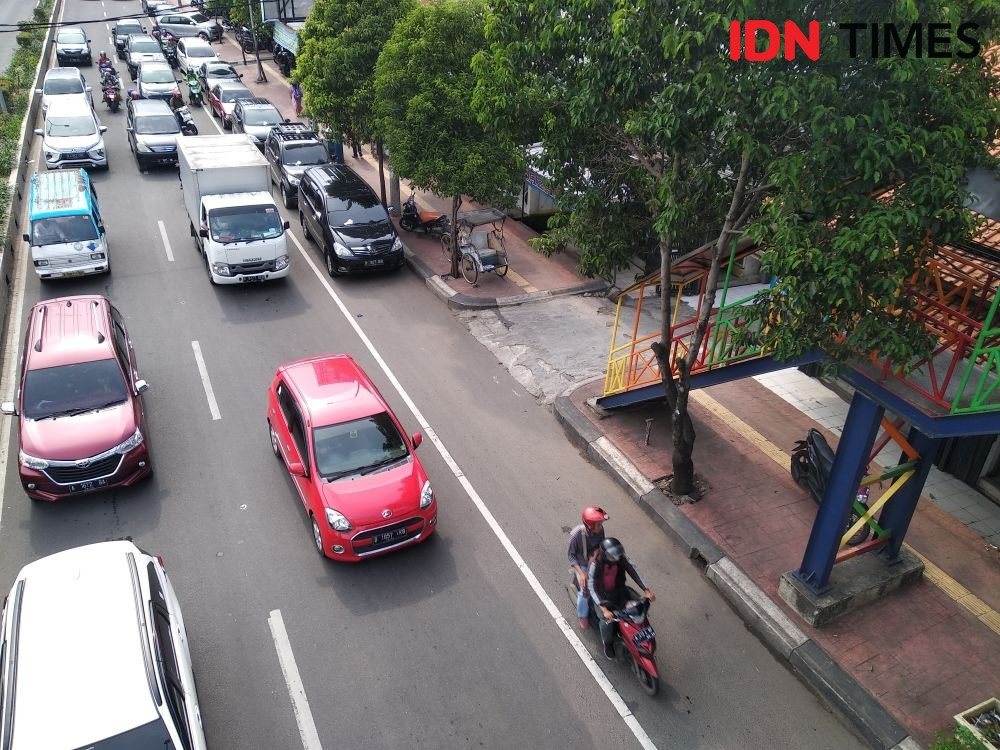car: (1, 543, 209, 750), (268, 356, 445, 563), (27, 299, 153, 503), (172, 135, 293, 289), (299, 167, 403, 281), (30, 171, 109, 284), (44, 96, 111, 174), (269, 123, 333, 204), (128, 100, 185, 172), (234, 97, 288, 158), (43, 66, 94, 126), (209, 83, 256, 131), (138, 61, 180, 109), (199, 61, 245, 104), (176, 37, 221, 80), (156, 16, 224, 43), (127, 33, 166, 79), (55, 25, 92, 67), (113, 20, 145, 58)
motorbike: (569, 506, 666, 696), (171, 91, 198, 139), (102, 67, 122, 112), (185, 68, 206, 110), (100, 52, 111, 79)
